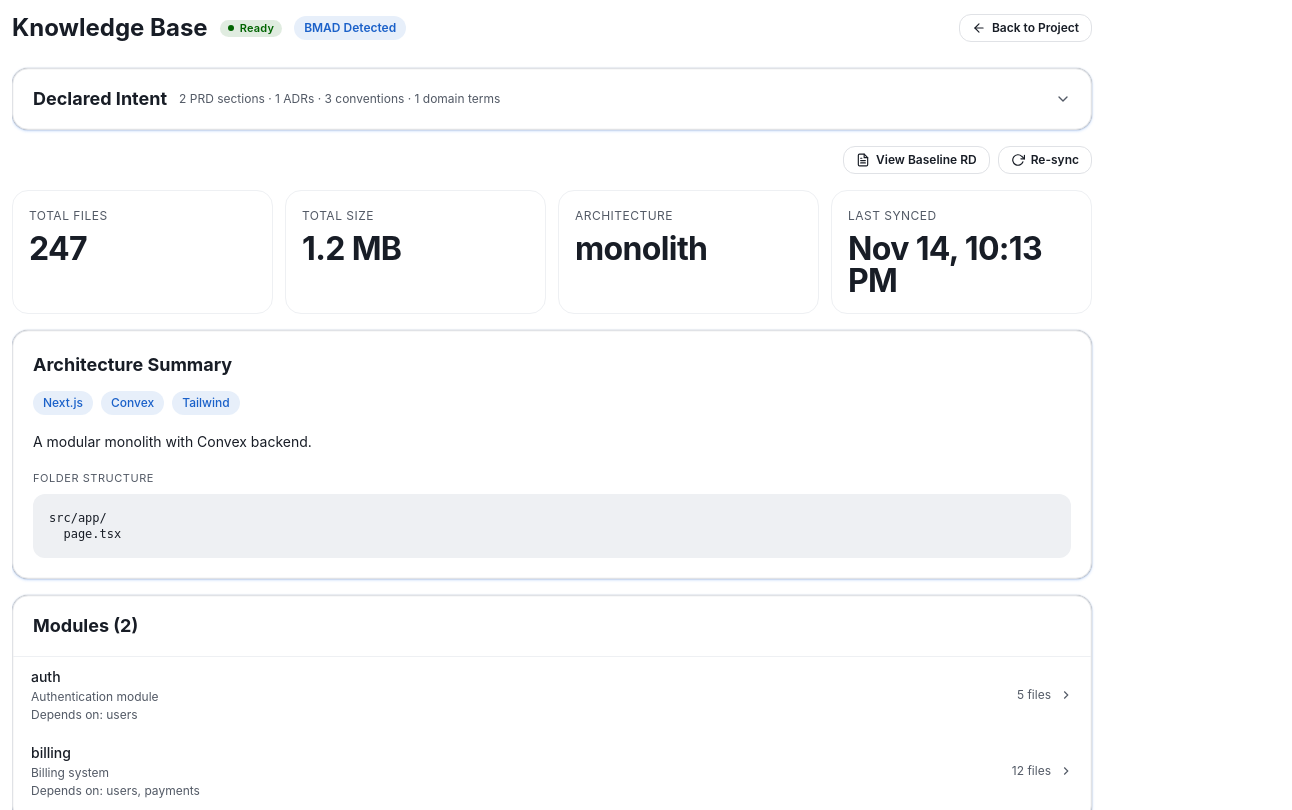
Scenario: KnowledgePage › Declared Intent section › expands on click to show metadata details
What coordinates should you click on to do the following:
click the button "Declared Intent"
I would click on:
 (100, 98)
Its box is [13,69,1091,129].
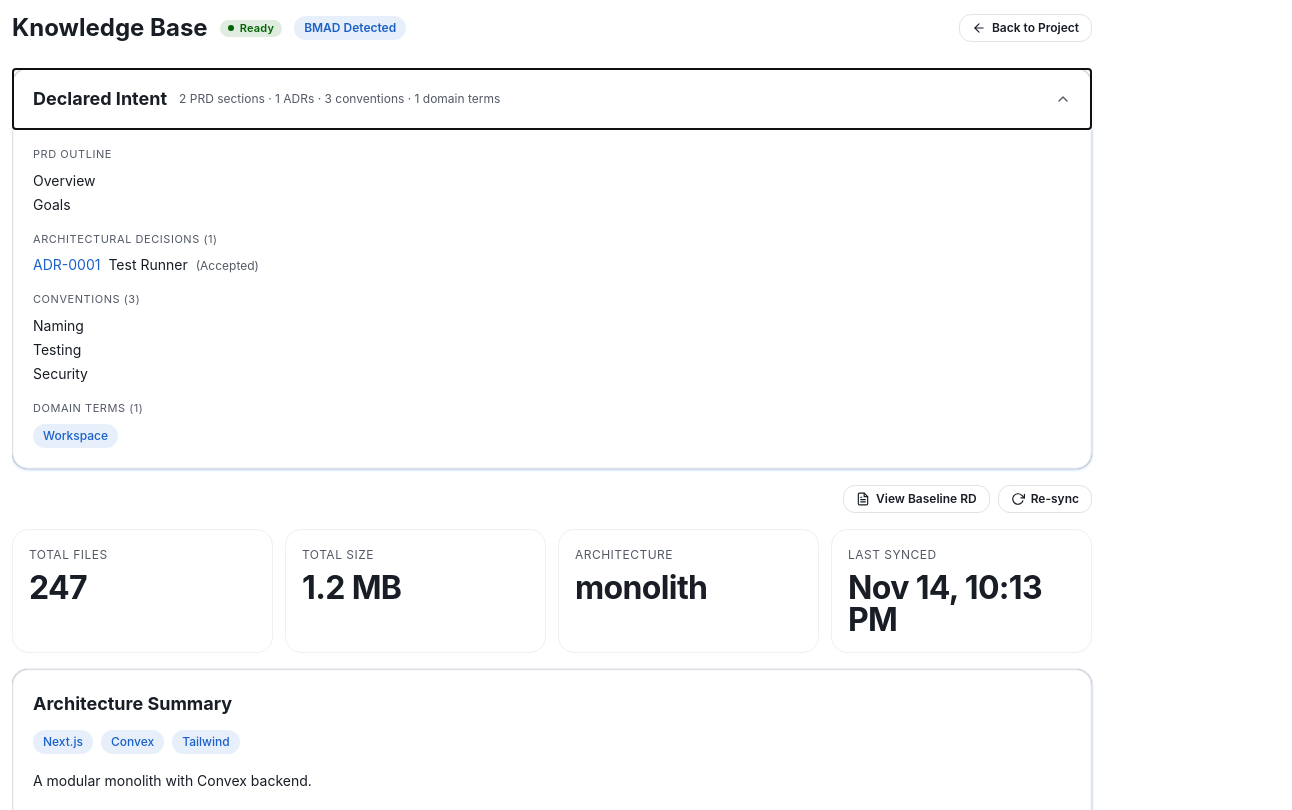
Expected: the text "PRD Outline" is shown, [33,147,112,161]
Expected: the text "Architectural Decisions (1)" is shown, [33,232,218,246]
Expected: the text "Conventions (3)" is shown, [33,292,140,306]
